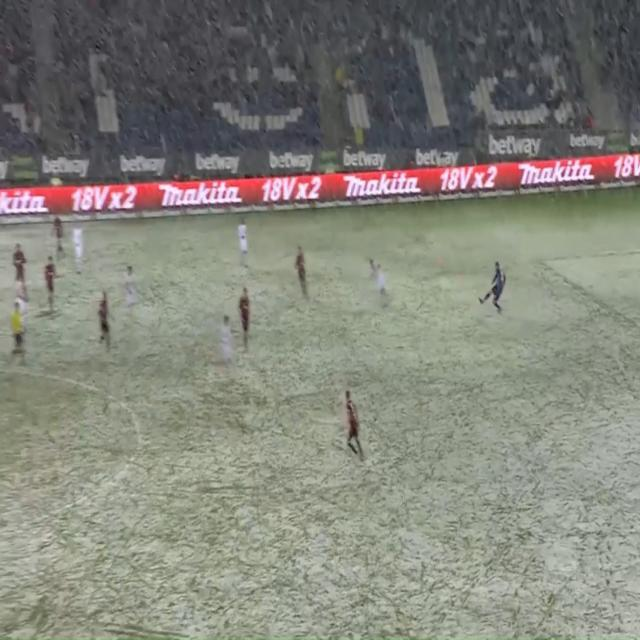ball: (435, 256, 445, 273)
goalkeeper: (477, 246, 509, 319)
player: (329, 370, 371, 471), (283, 226, 321, 309), (365, 242, 398, 317), (210, 307, 238, 384), (230, 208, 257, 286), (235, 283, 256, 360), (120, 255, 141, 325), (11, 242, 34, 304), (95, 285, 114, 355), (41, 253, 60, 322), (68, 222, 88, 278), (51, 207, 68, 268)
referee: (7, 301, 30, 369)
